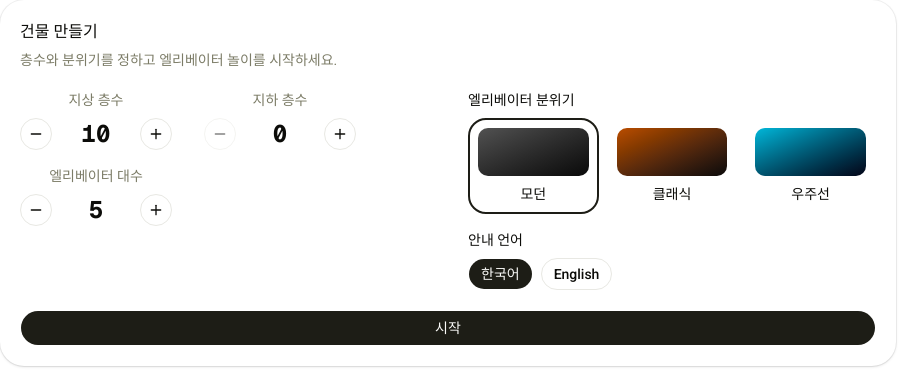
Test: BuildingSetupScreen › 엘리베이터 대수 늘리기 버튼을 누르면 숫자가 하나 올라가고, 최댓값에서 비활성화된다
Click the button named "엘리베이터 대수 늘리기": point(156, 210) [140,194,172,226]
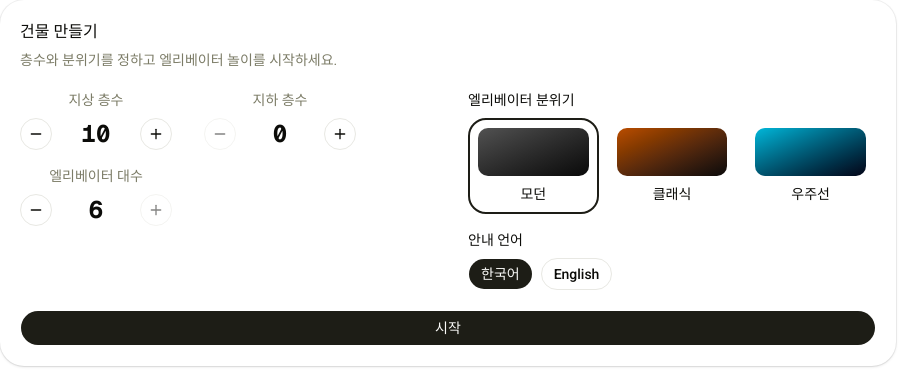
Check: the button named "엘리베이터 대수 늘리기" is disabled, box [140,194,172,226]
